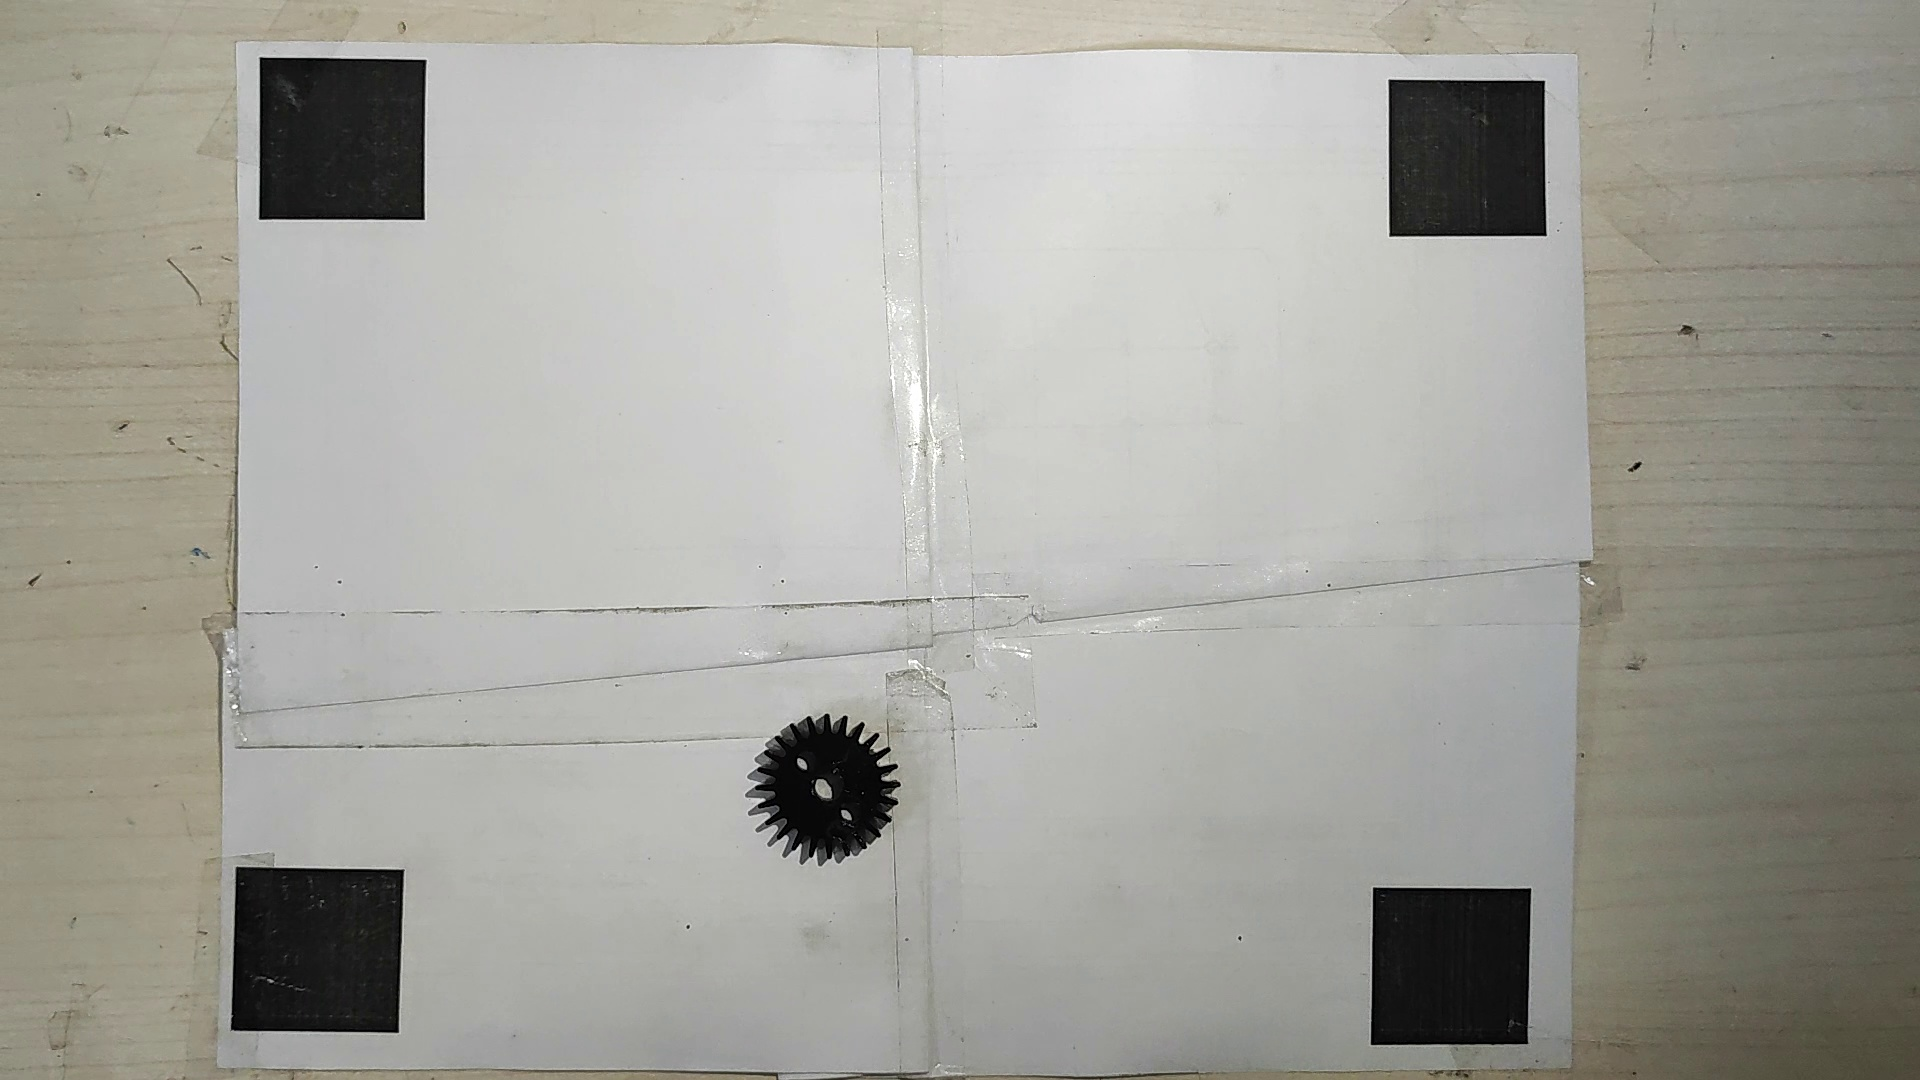Gear: (740, 707, 905, 865)
